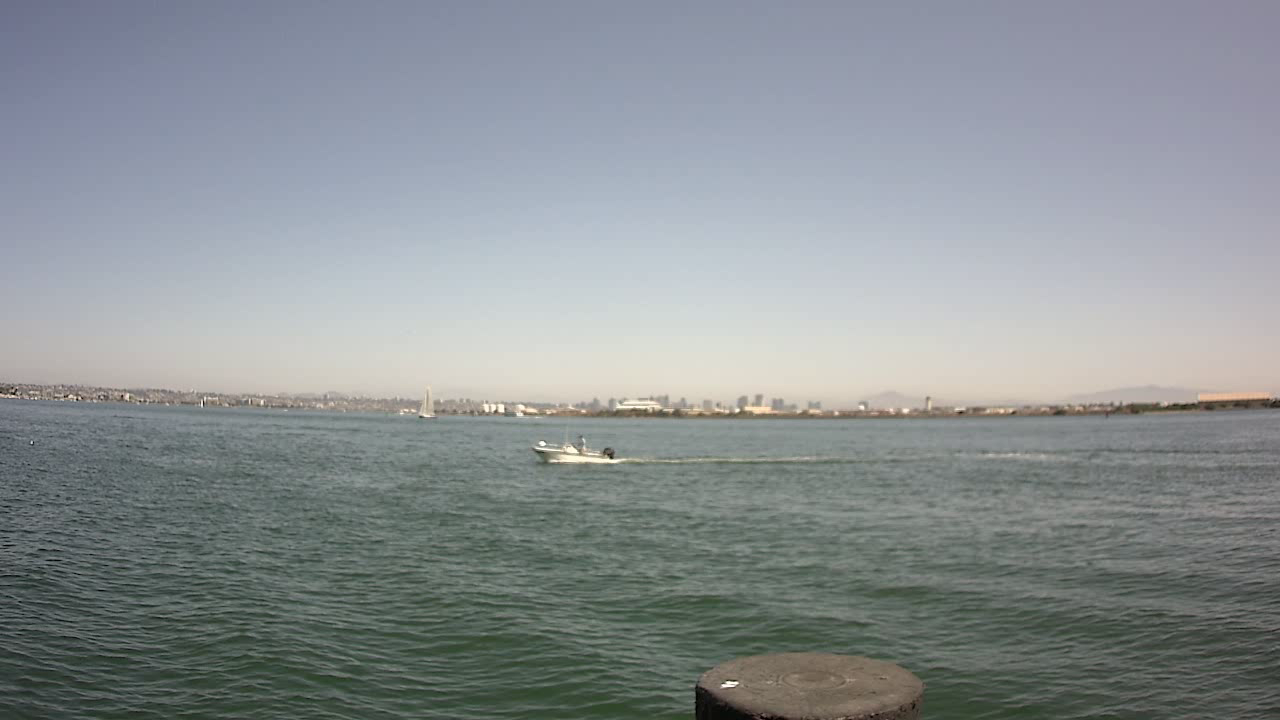target: (528, 426, 630, 478)
